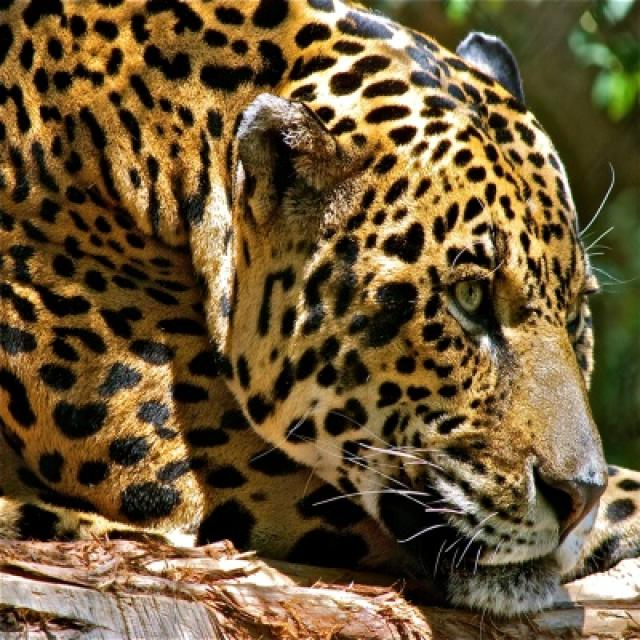Jaguar: (0, 0, 611, 632)
